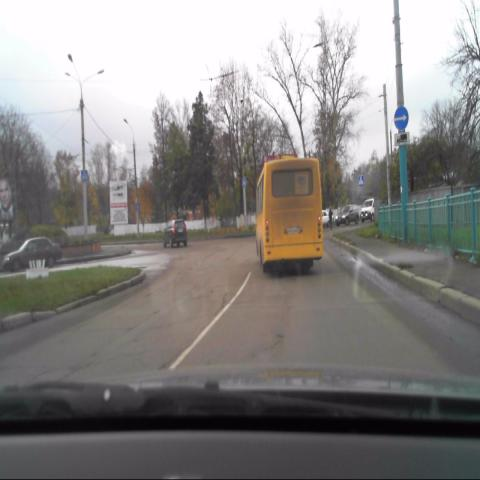4_1_2_1: (393, 105, 409, 132)
8_4_1: (393, 132, 410, 146)
